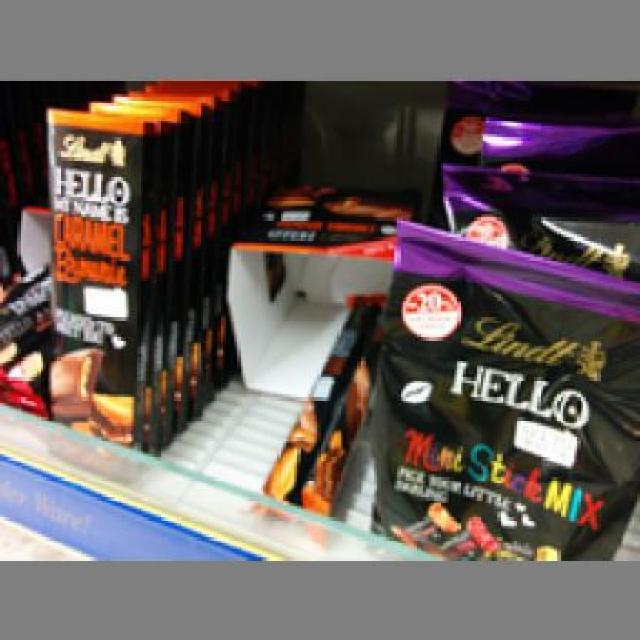Chocolate bar: (369, 203, 637, 560), (43, 103, 151, 426)
